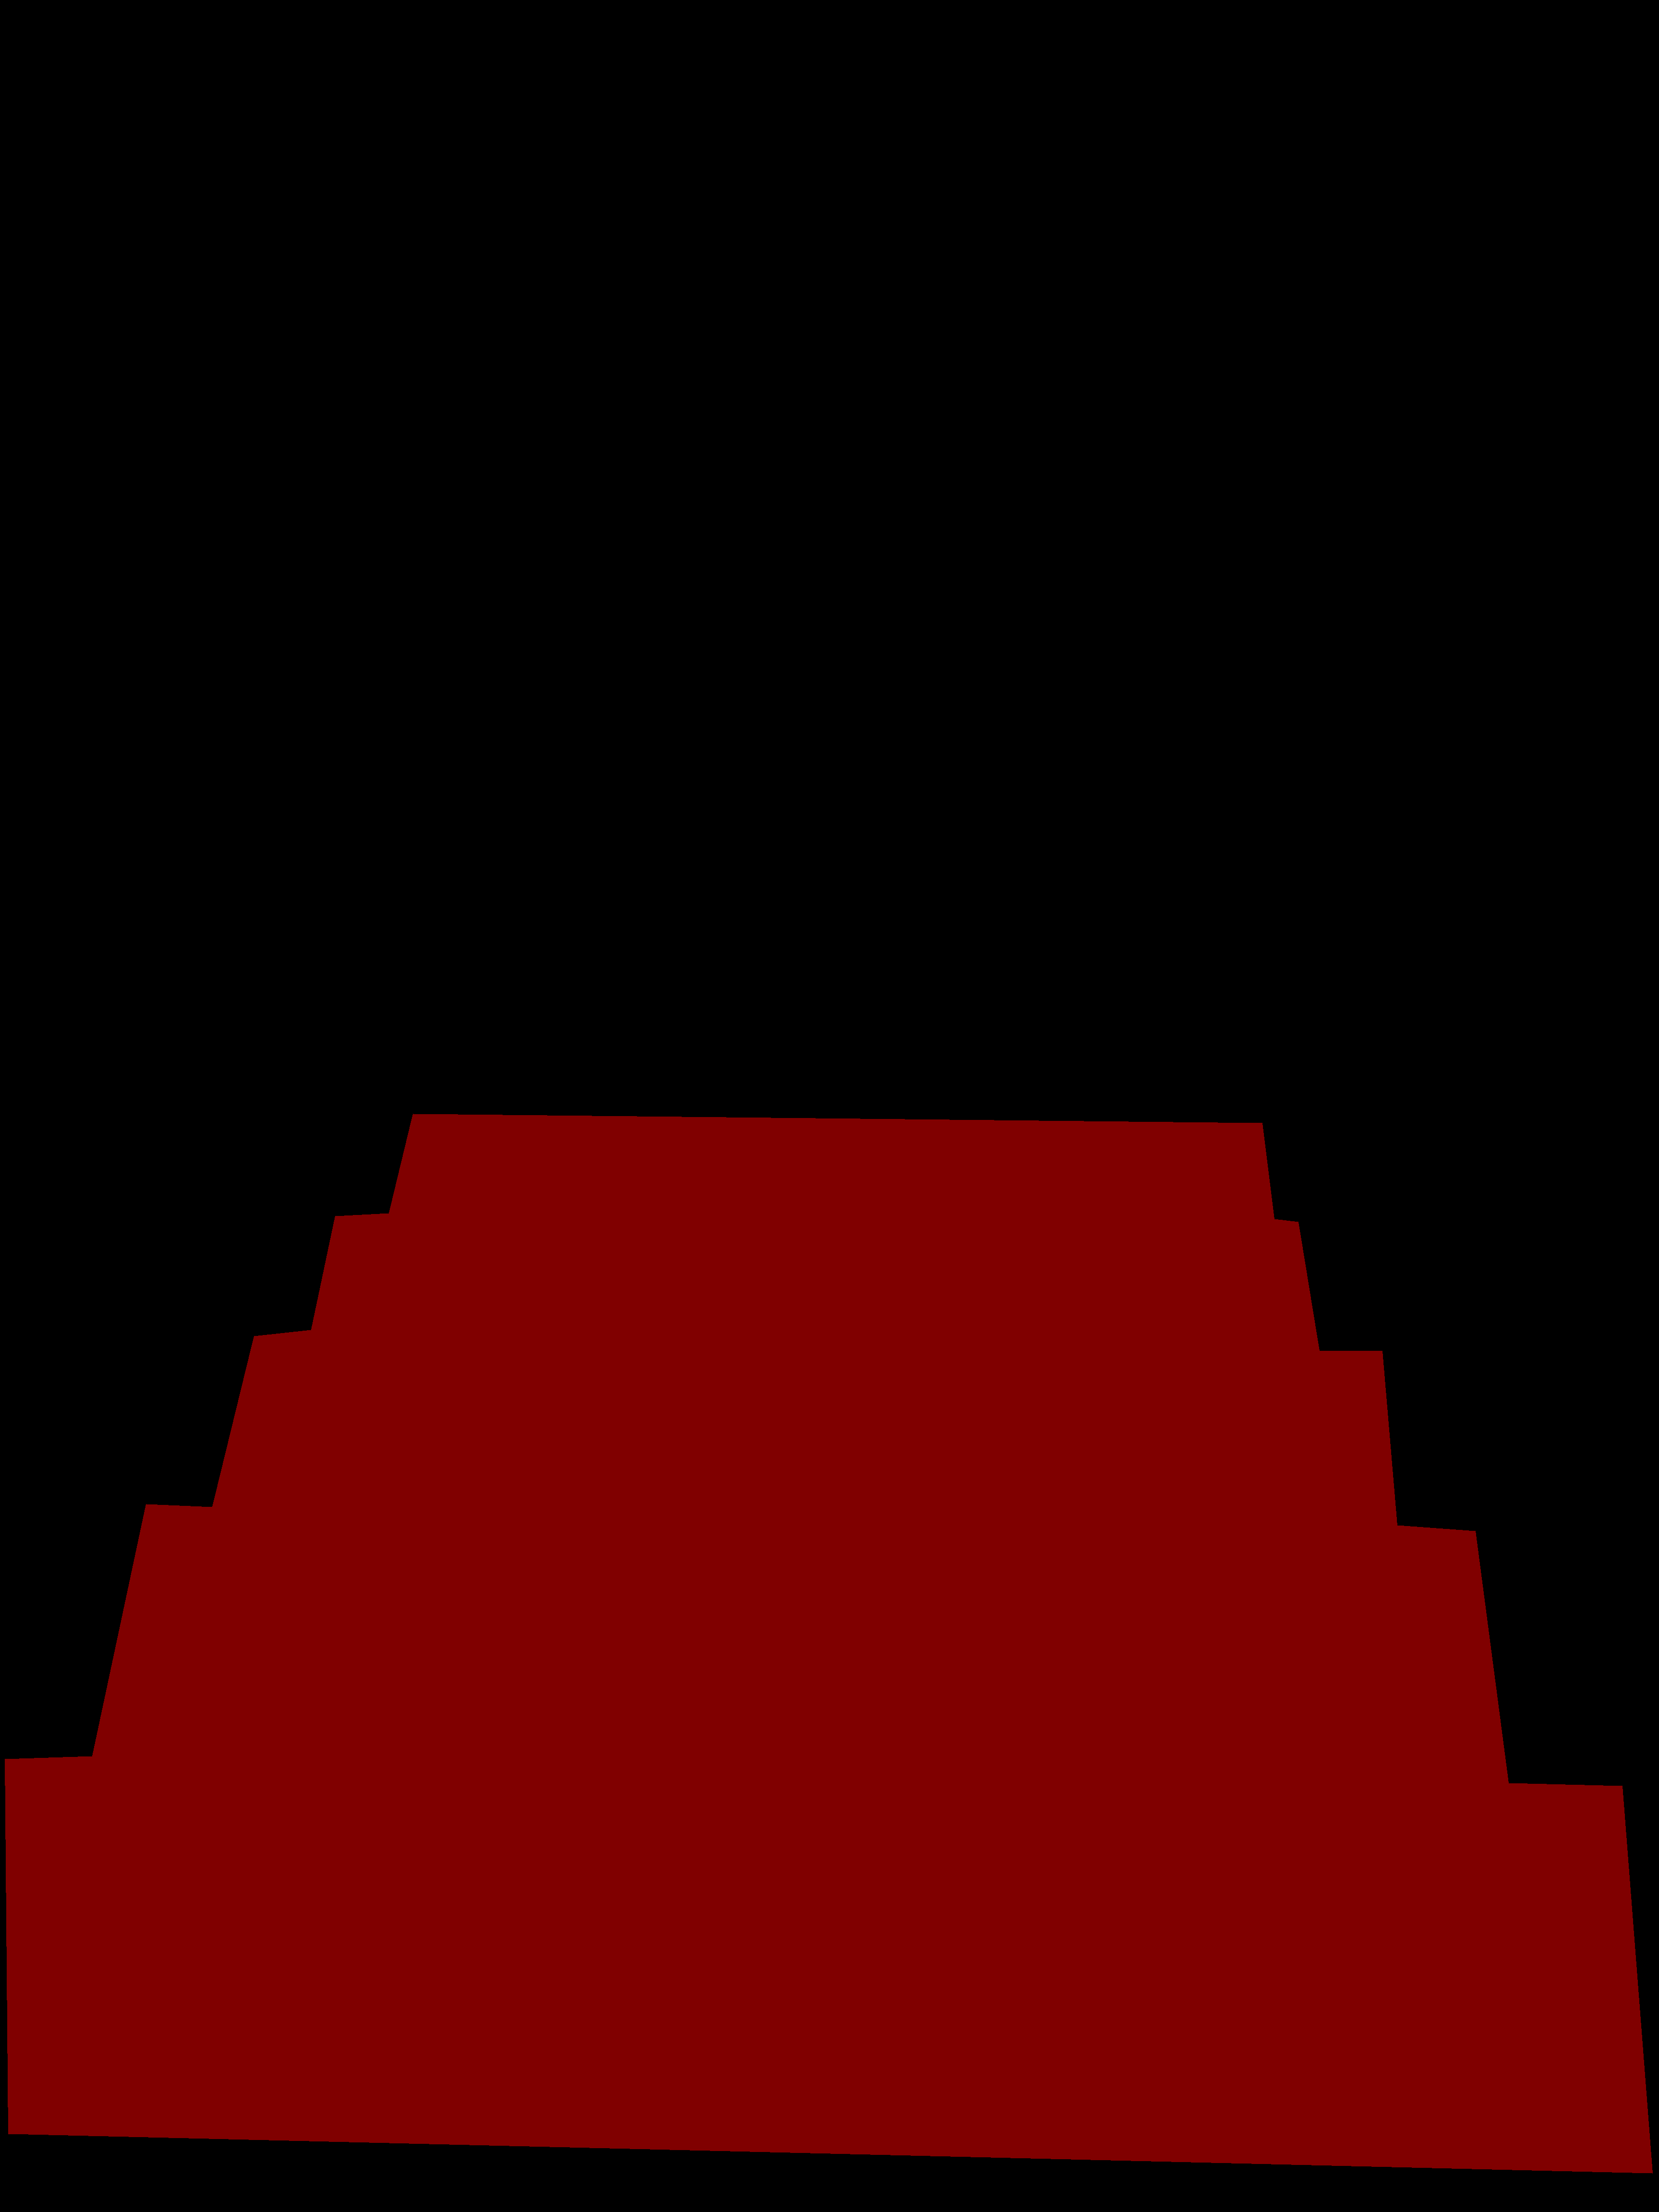stair: (5, 1113, 1652, 2174)
